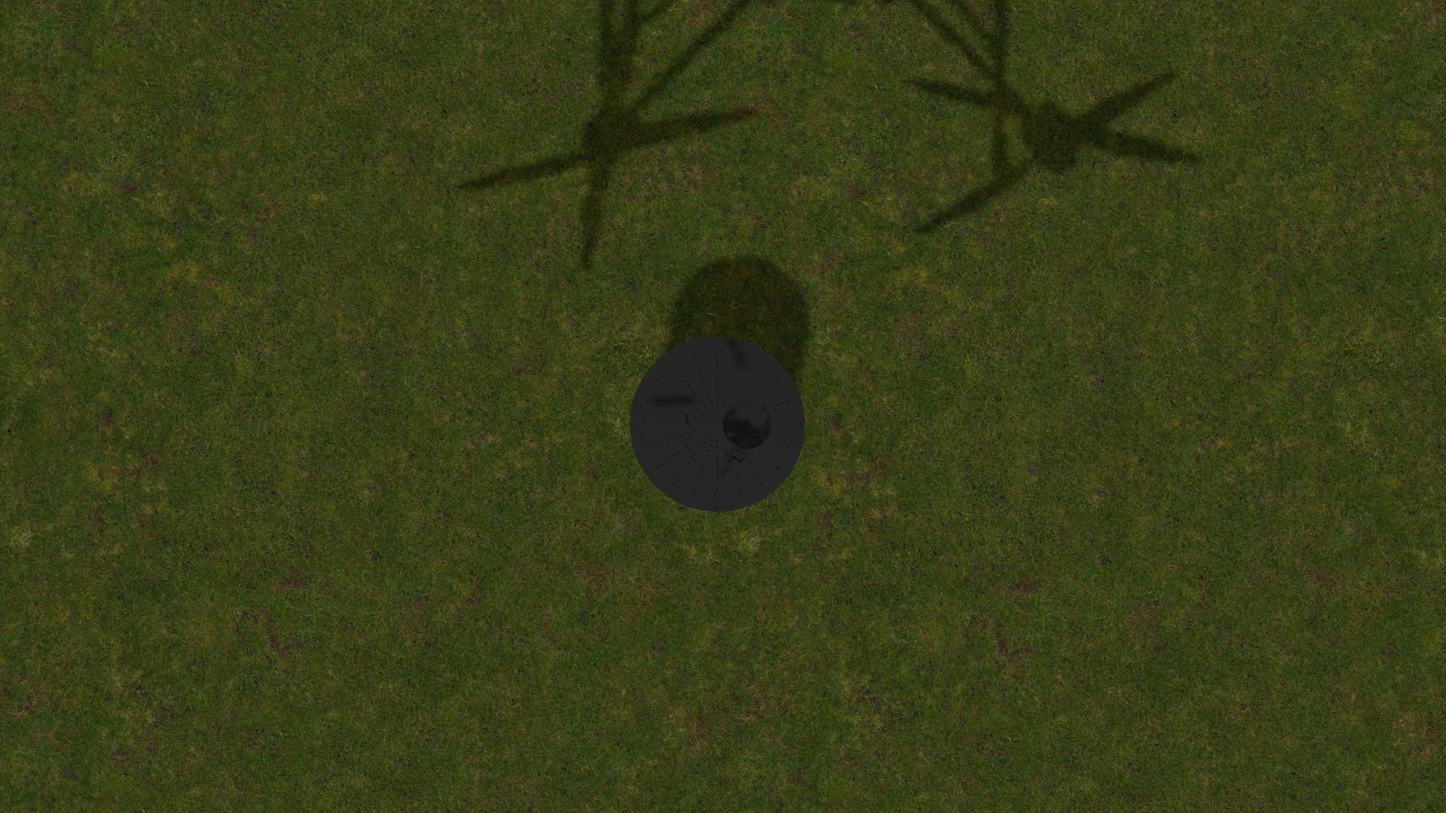alca: (712, 451, 744, 504), (714, 342, 745, 396), (639, 414, 694, 427)
armadilha: (630, 336, 805, 512)
